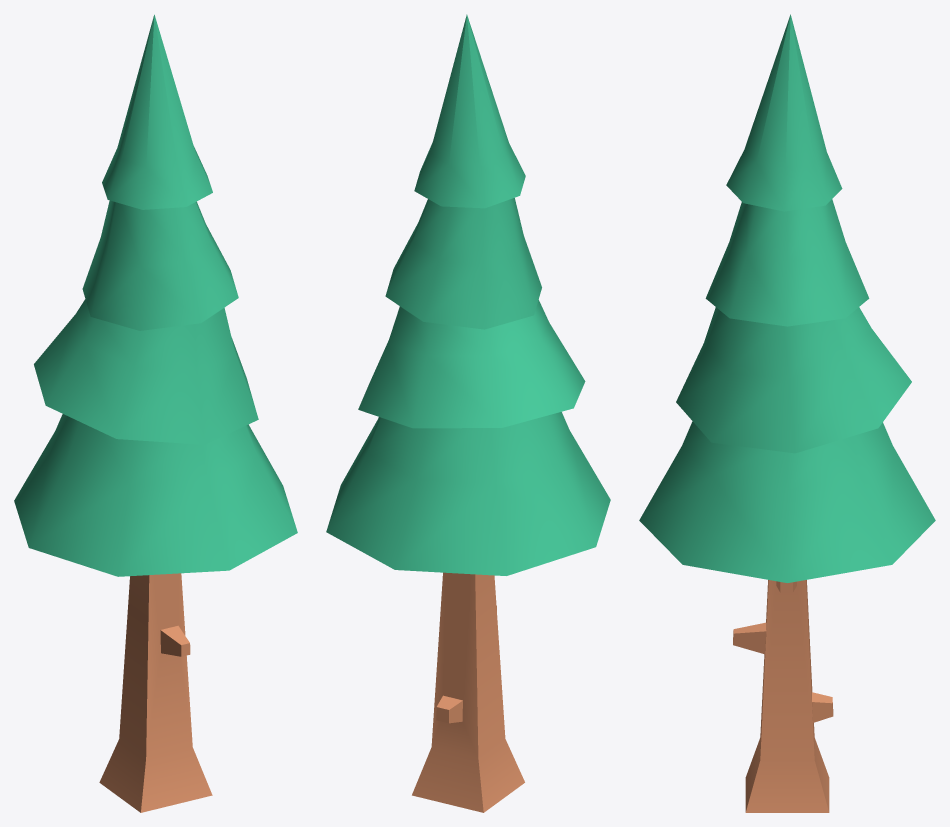
The model's file is treeHighCrooked.obj.
The picture shows the model from 3 angles, left to right: view 1: azimuth 30°, elevation 25°; view 2: azimuth 150°, elevation 25°; view 3: azimuth 270°, elevation 25°; orthographic projection.
Visible parts, largest first — view 1: treeHighCrooked; view 2: treeHighCrooked; view 3: treeHighCrooked.
Boxes of the visible parts, left/top/right/bottom form: treeHighCrooked: left=14, top=14, right=297, bottom=812; treeHighCrooked: left=326, top=14, right=610, bottom=812; treeHighCrooked: left=639, top=14, right=935, bottom=812.
Size of the model in its own units: 1.02 by 2.97 by 1.02.
